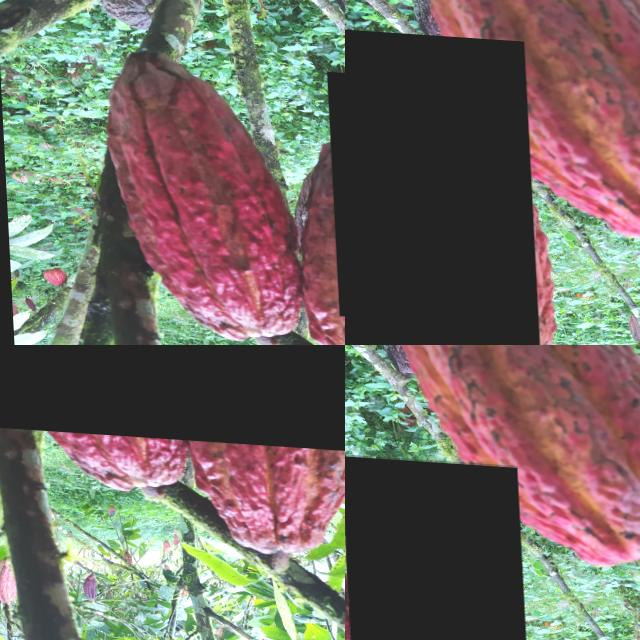Fitoftora: (345, 450, 527, 640)
Monilia: (345, 22, 538, 345), (0, 345, 345, 448)
Sana: (379, 345, 640, 564)
